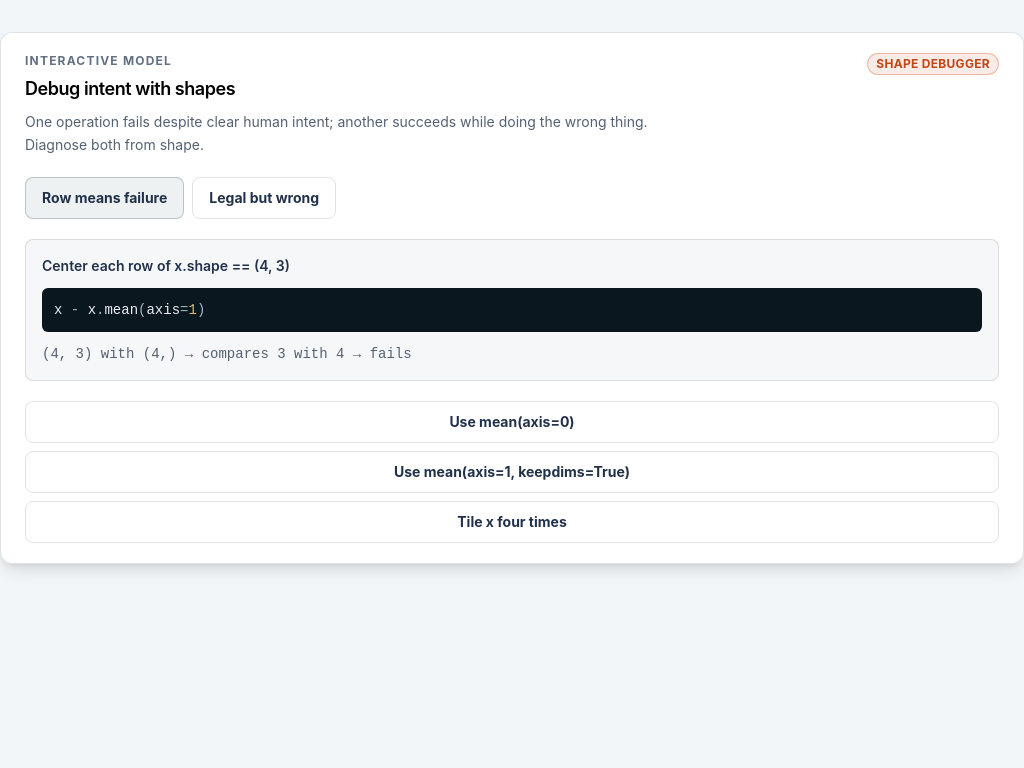
Scenario: broadcasting interactives › uses keepdims to repair row-wise centering
Click the button "Use mean(axis=1, keepdims=True)" at {"x": 512, "y": 472}, box [25,450,999,492]
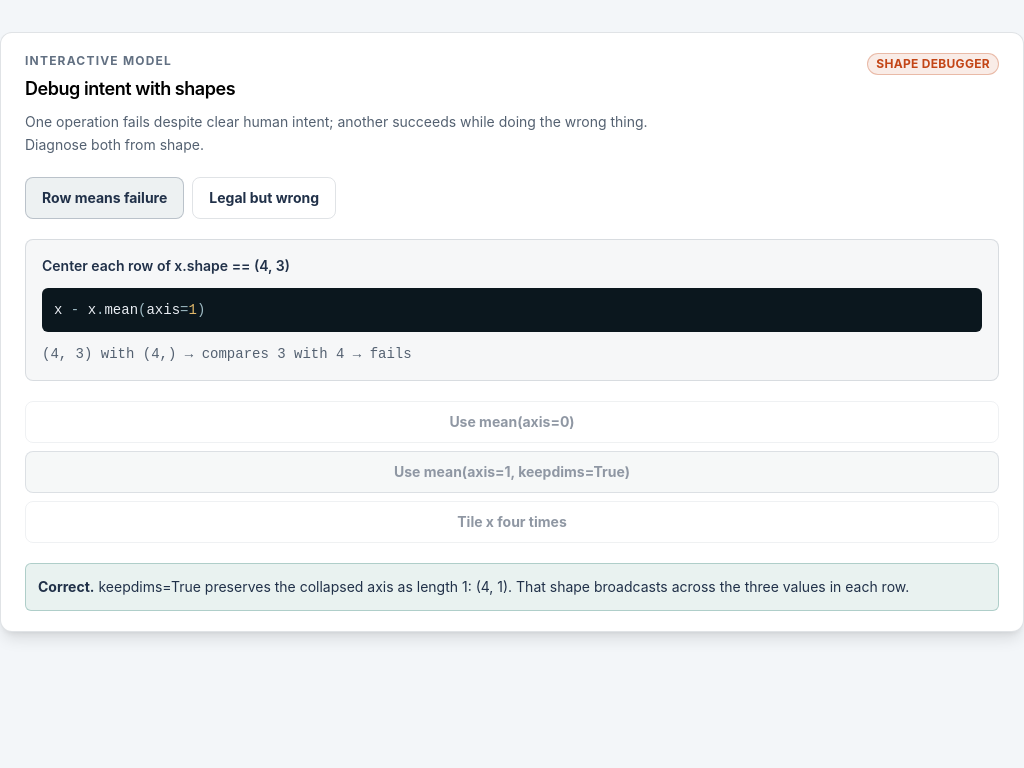
Check: the message shows "(4, 1)", box [98,578,909,594]
